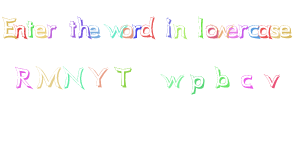E: (1, 15, 18, 39)
M: (36, 66, 62, 89)
N: (64, 66, 85, 89)
R: (14, 67, 33, 89)
T: (113, 66, 132, 88)
Y: (88, 66, 108, 87)
a: (257, 23, 271, 38)
b: (215, 66, 230, 88)
c: (241, 74, 254, 88), (248, 23, 260, 38)
d: (139, 14, 156, 38)
e: (278, 23, 292, 39), (88, 23, 101, 40), (34, 24, 47, 39), (226, 24, 238, 38)
h: (77, 16, 91, 38)
i: (164, 16, 173, 38)
l: (195, 15, 205, 39)
n: (12, 24, 28, 39), (173, 24, 187, 39)
o: (119, 23, 134, 39), (204, 23, 219, 39)
p: (190, 73, 205, 95)
r: (130, 22, 142, 39), (46, 23, 57, 39), (239, 24, 248, 39)
s: (269, 23, 281, 39)
t: (26, 19, 36, 37), (68, 18, 76, 38)
v: (264, 73, 280, 88)
w: (160, 73, 184, 88), (104, 23, 126, 39), (213, 23, 232, 39)
